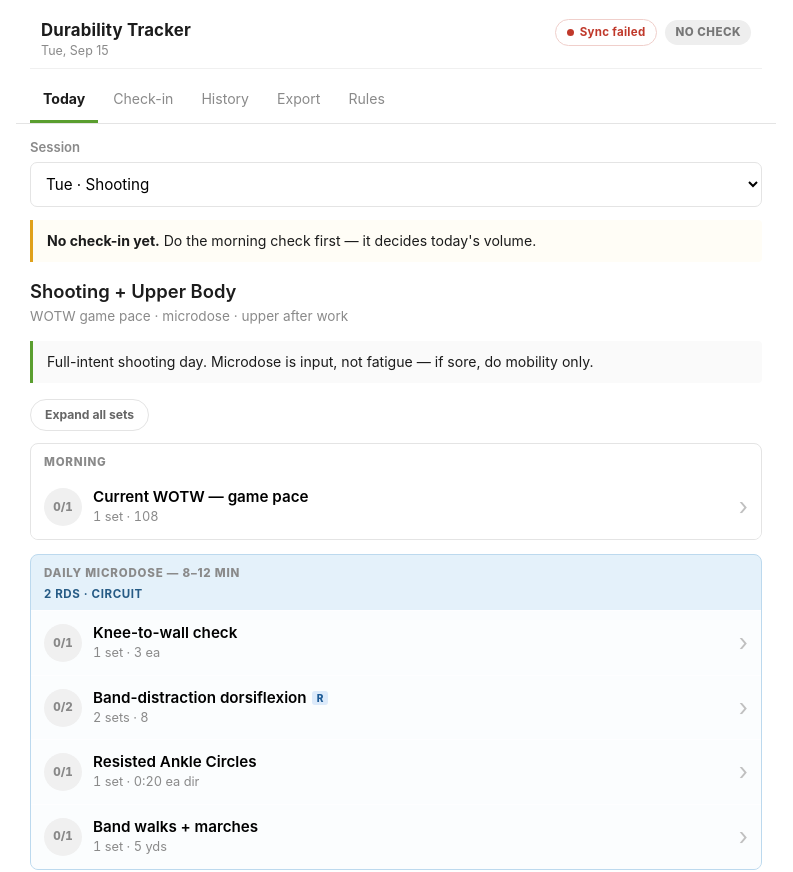
Scenario: session overview › opens compact by default, one row per exercise
Step 1. Select "Mon · Lower A" in the dropdown labelled "Session" → point(396, 184), box [30,162,762,207]
(page scrolled)
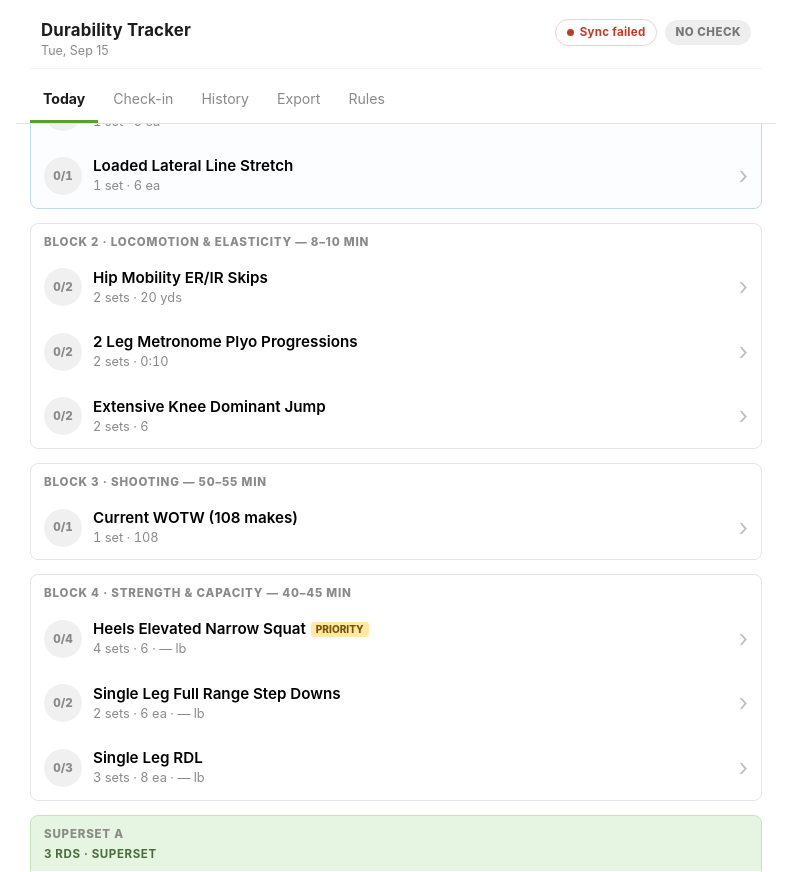
Result: the number of elements with class "orow" is 18
